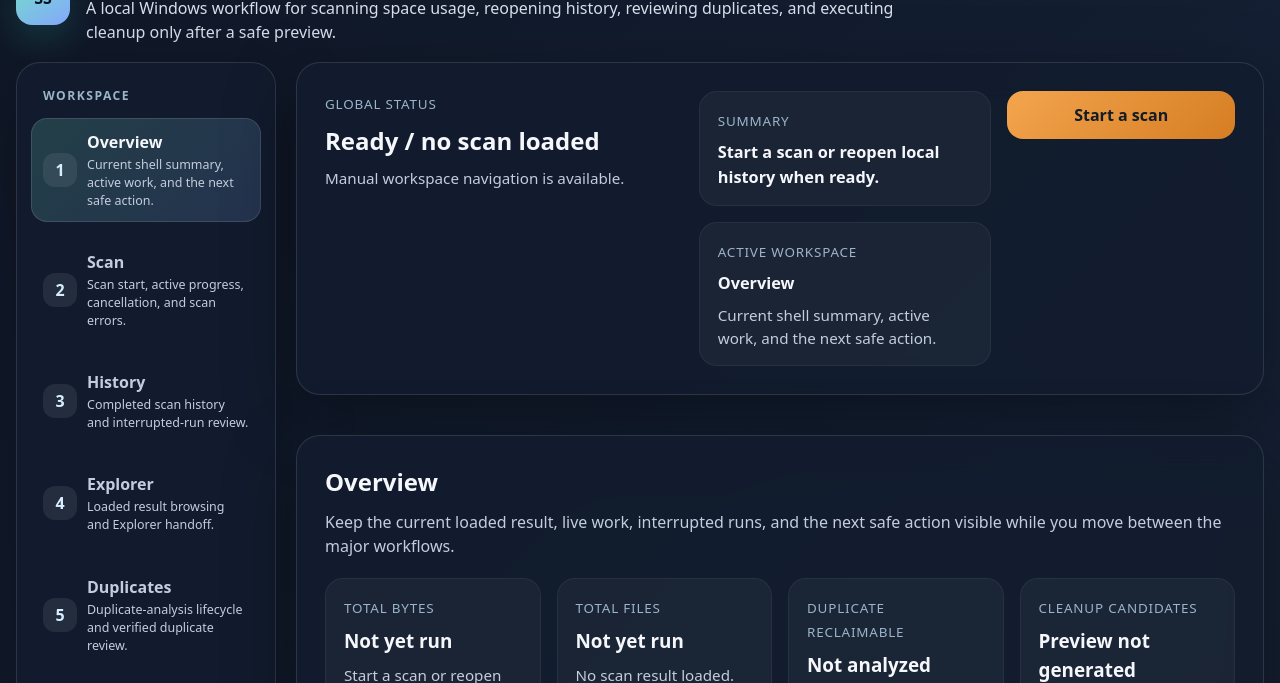
Test: Space Sift results explorer › shows an empty-state when the current folder has no immediate children
Click the tab "Explorer" at [146, 504], box x1=31 y1=460 x2=261 y2=547
(page scrolled)
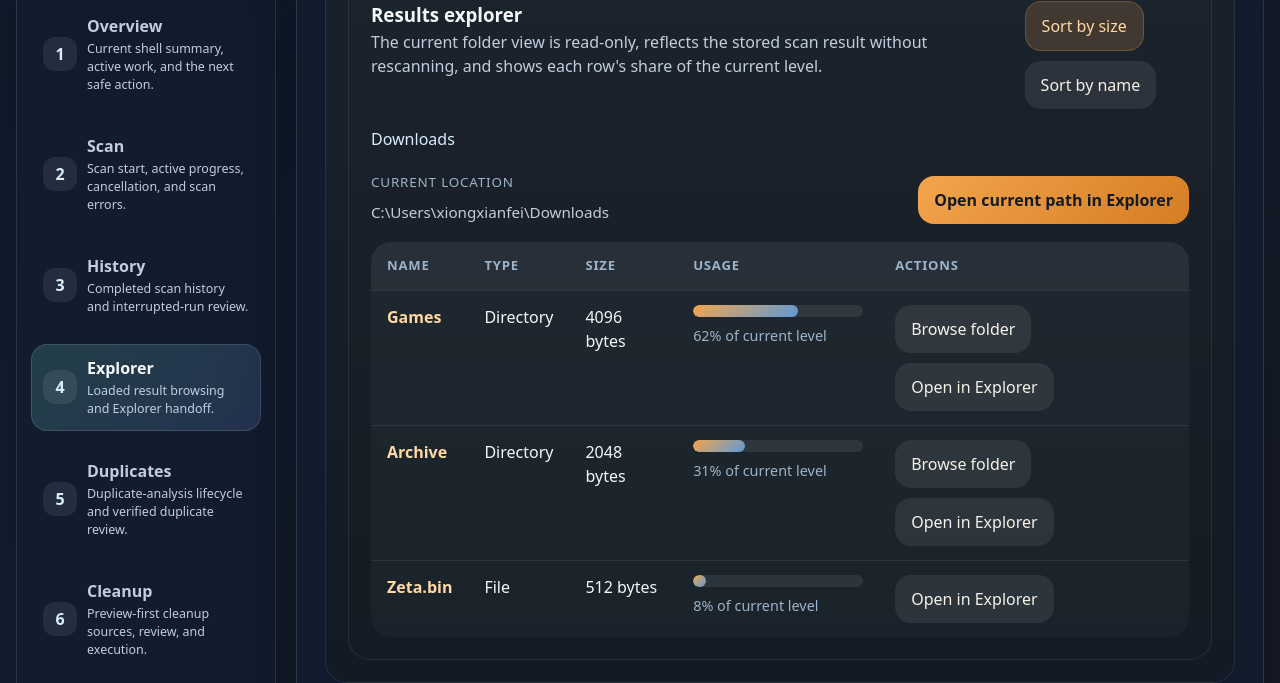
expect the button with aria-label "browse games" is shown: met
Click the button with aria-label "browse games" at [963, 329], box x1=895 y1=305 x2=1031 y2=353
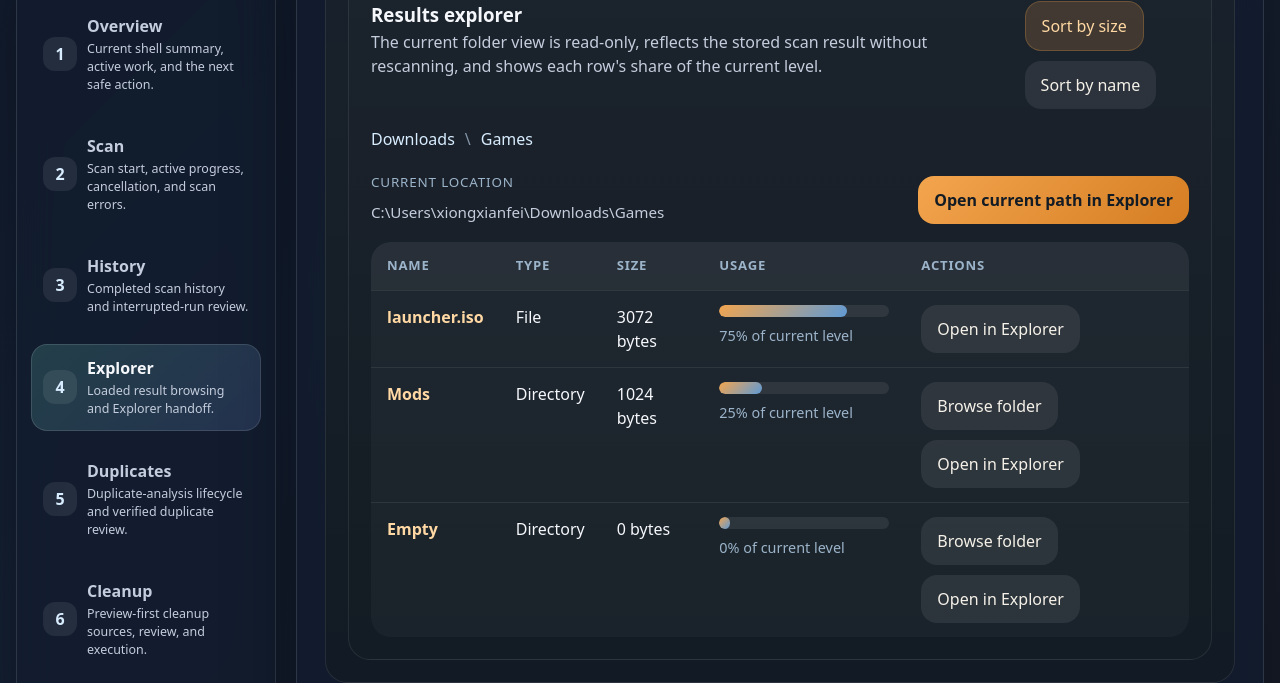
expect the button with aria-label "browse empty" is shown: met
Click the button with aria-label "browse empty" at [990, 541], box x1=921 y1=517 x2=1058 y2=565
(page scrolled)
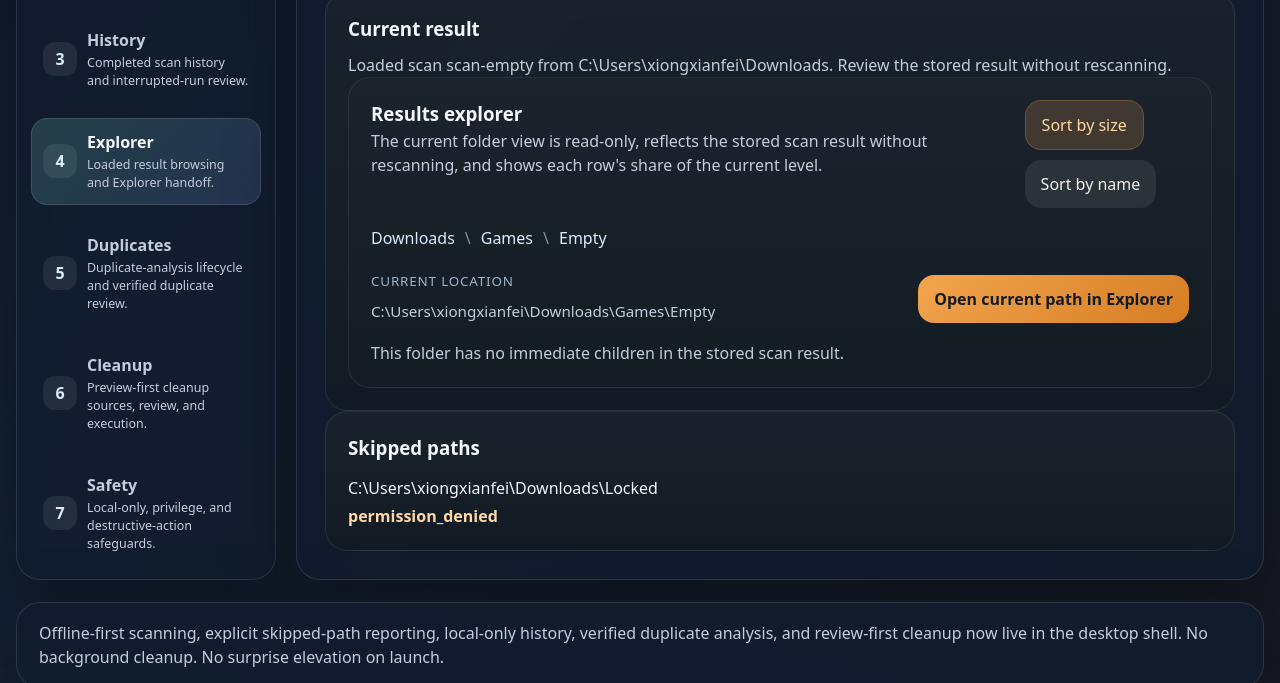
expect the text "This folder has no immediate children in the stored scan result" is shown: met, box x1=371 y1=342 x2=844 y2=364
